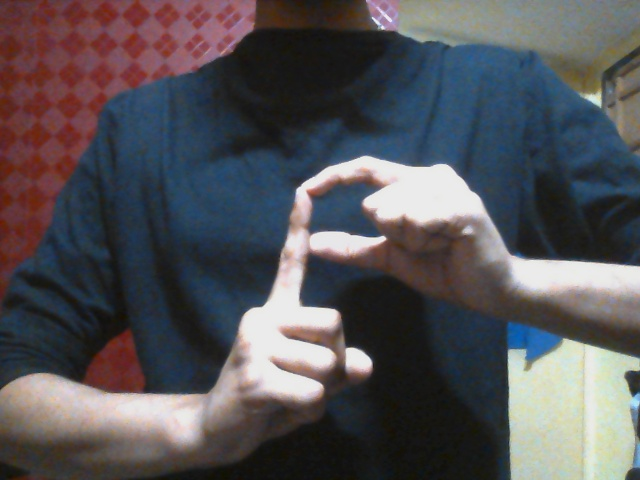P: (212, 154, 501, 441)
